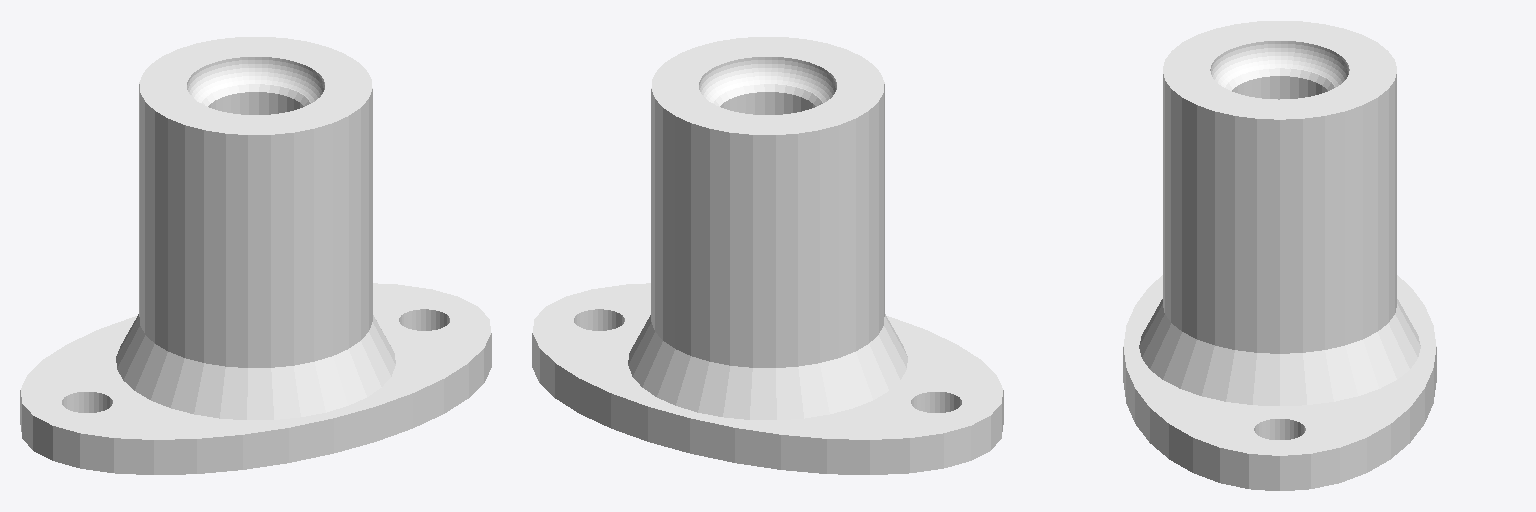
URDF robot description (spark_plug_socket):
<robot name="spark_plug_socket">
  <!-- for gazebo -->
  <link name="world"/>

  <material name="blue">
    <color rgba="0 0 0.8 1"/>
  </material>

  <material name="black">
    <color rgba="0 0 0 1"/>
  </material>

  <material name="white">
    <color rgba="1 1 1 1"/>
  </material>

  <joint name="fixed_to_world" type="fixed">
    <parent link="world"/>
    <child link="spark_plug_socket"/>
    <origin xyz="0 0 0" rpy="0 0 0"/>
    <axis xyz="0 1 0"/>
  </joint>
  <link name="spark_plug_socket">
    <inertial>
      <origin xyz="0.0 0.0 0.0" />
      <mass value="0.5" />
      <inertia ixx="0.0005" ixy="0.0" ixz="0.0" iyy="0.0005" iyz="0.0" izz="0.0005" />
    </inertial>
    <visual>
      <origin xyz="0.0 0.0 0.0"/>
      <geometry>
        <mesh filename="model://spark_plug_socket/meshes/spark_plug_socket.stl"/>
      </geometry>
      <material name="white"/>
    </visual>
    <collision>
      <origin xyz="0.0 0.0 0.0"/>
      <geometry>
        <mesh filename="model://spark_plug_socket/meshes/spark_plug_socket_collision.stl"/>
      </geometry>
    </collision>
  </link>
  <gazebo reference="spark_plug_socket">
    <material>Gazebo/White</material>
    <static>true</static>
    <turnGravityOff>true</turnGravityOff>
    <mu1>0.2</mu1>
    <mu2>0.2</mu2>
    <kp>10000.0</kp> 
    <kd>1000</kd>
  </gazebo>
</robot>

--- Facts derived from the render (not from the file) ---
3 views of the same robot in one strip: view 1: azimuth 30°, elevation 25°; view 2: azimuth 150°, elevation 25°; view 3: azimuth 270°, elevation 25° (orthographic).
Model spark_plug_socket with 2 links and 1 joints (1 fixed), rooted at world, posed every joint at zero.
Links seen in each view (by area): view 1: spark_plug_socket; view 2: spark_plug_socket; view 3: spark_plug_socket.
Link boxes in pixels (left/top/right/bottom): spark_plug_socket: left=20, top=37, right=491, bottom=474; spark_plug_socket: left=532, top=37, right=1003, bottom=474; spark_plug_socket: left=1123, top=21, right=1436, bottom=490.
Bounding box of the posed robot: 0.066 × 0.04 × 0.044 m (x, y, z).
1 mesh visuals loaded from 1 distinct referenced files (1 binary STL).